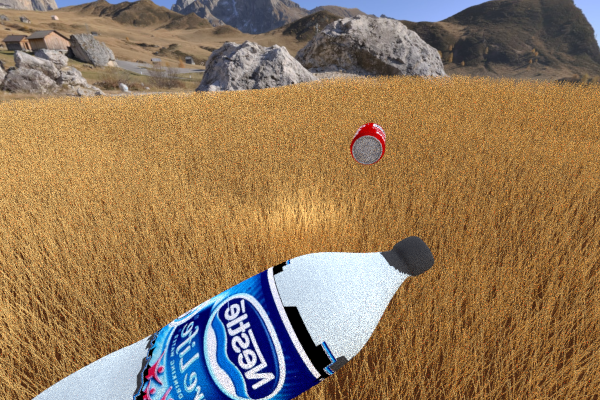Plastic Bottle: (0, 235, 434, 400), (65, 104, 121, 136), (350, 122, 385, 165)
